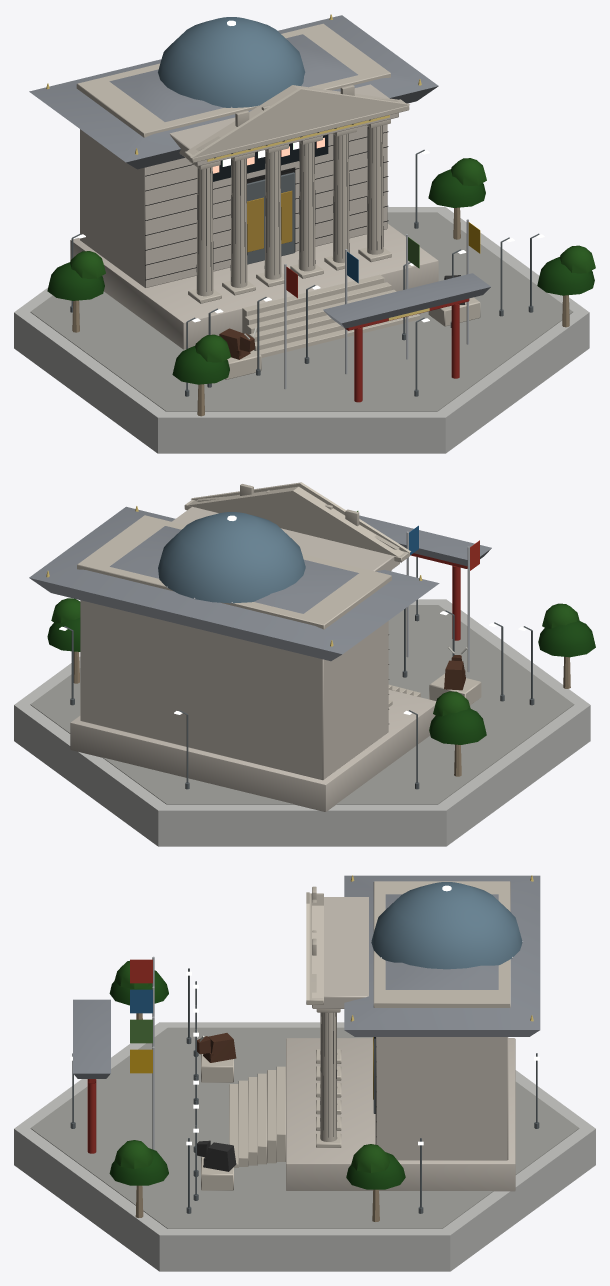
Rendered from stockExchange_asia.glb.
The picture shows the model from 3 angles, top to bottom: view 1: azimuth 30°, elevation 25°; view 2: azimuth 150°, elevation 25°; view 3: azimuth 270°, elevation 25°; orthographic projection.
Parts seen in each view (by area): view 1: stone, pavers, wall_concrete, roof_slate, glass, leaf, dark, paint, steel_dark, gold, metal, wood; view 2: stone, wall_concrete, pavers, roof_slate, glass, leaf, paint, steel_dark, wood, metal; view 3: stone, pavers, wall_concrete, roof_slate, glass, leaf, paint, steel_dark, dark, wood.
Part boxes in pixels (bbox=[...]): stone: bbox=[70, 23, 480, 379]; pavers: bbox=[30, 212, 572, 411]; wall_concrete: bbox=[14, 207, 589, 453]; roof_slate: bbox=[29, 15, 490, 328]; glass: bbox=[158, 17, 305, 107]; leaf: bbox=[47, 158, 595, 384]; dark: bbox=[145, 119, 388, 291]; paint: bbox=[213, 134, 480, 402]; steel_dark: bbox=[70, 149, 539, 396]; gold: bbox=[46, 14, 429, 320]; metal: bbox=[230, 107, 468, 389]; wood: bbox=[72, 207, 569, 416]; stone: bbox=[70, 482, 481, 811]; wall_concrete: bbox=[14, 599, 590, 846]; pavers: bbox=[30, 605, 574, 804]; roof_slate: bbox=[29, 506, 491, 661]; glass: bbox=[158, 512, 305, 603]; leaf: bbox=[47, 598, 595, 744]; paint: bbox=[357, 511, 479, 690]; steel_dark: bbox=[64, 557, 534, 789]; wood: bbox=[73, 651, 570, 776]; metal: bbox=[166, 531, 469, 672]; stone: bbox=[201, 881, 515, 1191]; pavers: bbox=[30, 1027, 579, 1228]; wall_concrete: bbox=[14, 1022, 595, 1271]; roof_slate: bbox=[73, 875, 540, 1078]; glass: bbox=[371, 882, 522, 969]; leaf: bbox=[109, 961, 405, 1189]; paint: bbox=[87, 959, 375, 1171]; steel_dark: bbox=[70, 968, 539, 1213]; dark: bbox=[320, 1013, 376, 1144]; wood: bbox=[135, 1013, 379, 1221].
Size of the model in its own units: 21.31 by 12.95 by 24.6.
